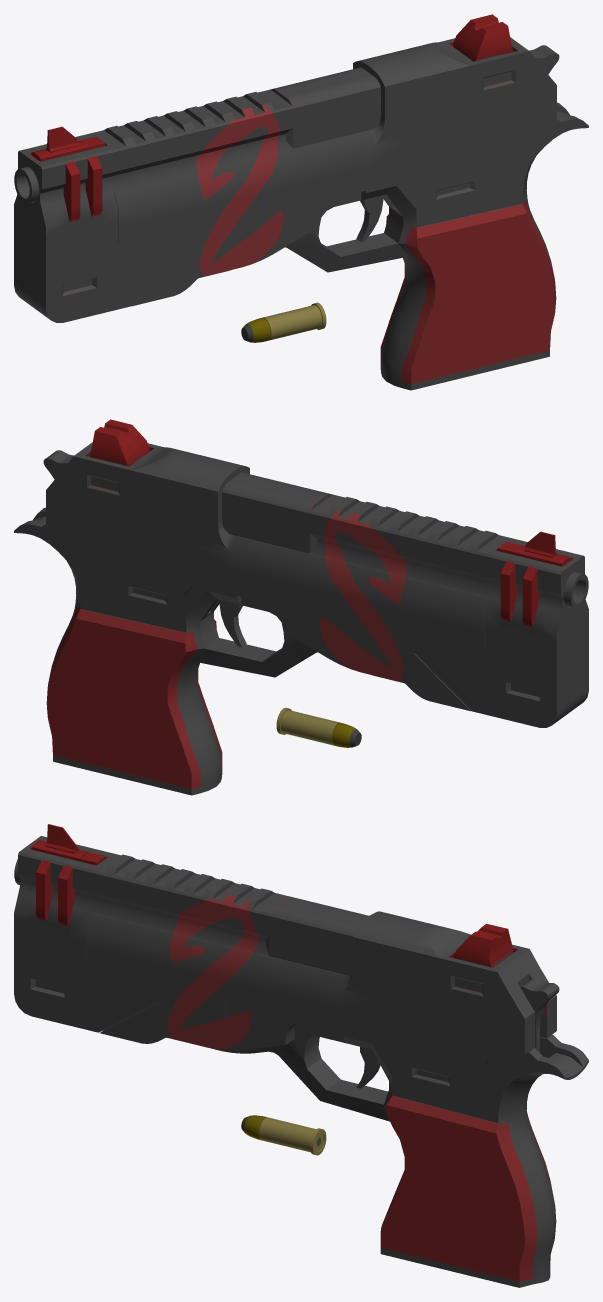
Rendered from SCIFI_Deagle_mk2_MAIN.fbx.
3 renders of one model, top to bottom at view 1: azimuth 30°, elevation 25°; view 2: azimuth 150°, elevation 25°; view 3: azimuth 330°, elevation 25°, orthographic.
Parts seen in each view (by area): view 1: WPN1_HG_deagleMK2_3, WPN1_HG_deagleMK2_1, WPN1_HG_deagleMK2_2, WPN1_HG_deagleMK2_4_1, WPN1_HG_deagleMK2_4_2, WPN1_HG_deagleMK2_4_6, WPN1_HG_deagleMK2_4_5; view 2: WPN1_HG_deagleMK2_3, WPN1_HG_deagleMK2_1, WPN1_HG_deagleMK2_2, WPN1_HG_deagleMK2_4_1, WPN1_HG_deagleMK2_4_2, WPN1_HG_deagleMK2_4_6, WPN1_HG_deagleMK2_4_5; view 3: WPN1_HG_deagleMK2_3, WPN1_HG_deagleMK2_2, WPN1_HG_deagleMK2_1, WPN1_HG_deagleMK2_4_1, WPN1_HG_deagleMK2_4_5.
Part boxes in pixels (x1,y1,x2,y2): WPN1_HG_deagleMK2_3: [131, 102, 588, 390]; WPN1_HG_deagleMK2_1: [14, 67, 380, 322]; WPN1_HG_deagleMK2_2: [114, 14, 556, 243]; WPN1_HG_deagleMK2_4_1: [262, 302, 326, 340]; WPN1_HG_deagleMK2_4_2: [356, 195, 383, 242]; WPN1_HG_deagleMK2_4_6: [241, 318, 269, 342]; WPN1_HG_deagleMK2_4_5: [529, 45, 559, 74]; WPN1_HG_deagleMK2_3: [14, 507, 471, 795]; WPN1_HG_deagleMK2_1: [222, 472, 588, 727]; WPN1_HG_deagleMK2_2: [46, 419, 488, 648]; WPN1_HG_deagleMK2_4_1: [276, 707, 340, 745]; WPN1_HG_deagleMK2_4_2: [219, 600, 246, 646]; WPN1_HG_deagleMK2_4_6: [333, 723, 361, 747]; WPN1_HG_deagleMK2_4_5: [43, 450, 73, 479]; WPN1_HG_deagleMK2_3: [100, 998, 588, 1287]; WPN1_HG_deagleMK2_2: [86, 911, 556, 1061]; WPN1_HG_deagleMK2_1: [14, 824, 368, 1032]; WPN1_HG_deagleMK2_4_1: [258, 1117, 326, 1155]; WPN1_HG_deagleMK2_4_5: [520, 978, 559, 1030].
Size of the model in its own units: 477 by 277 by 52.45.
